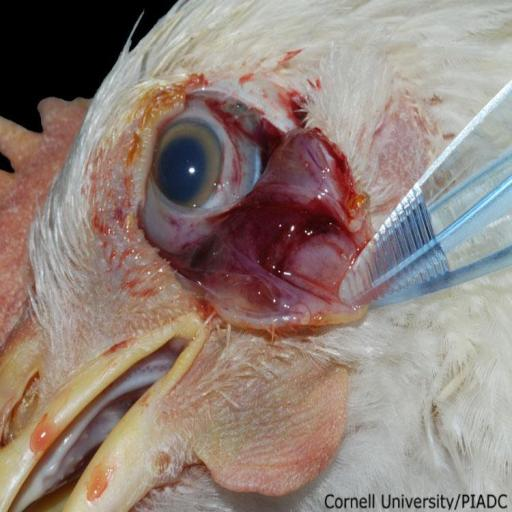disease: (110, 56, 370, 353)
